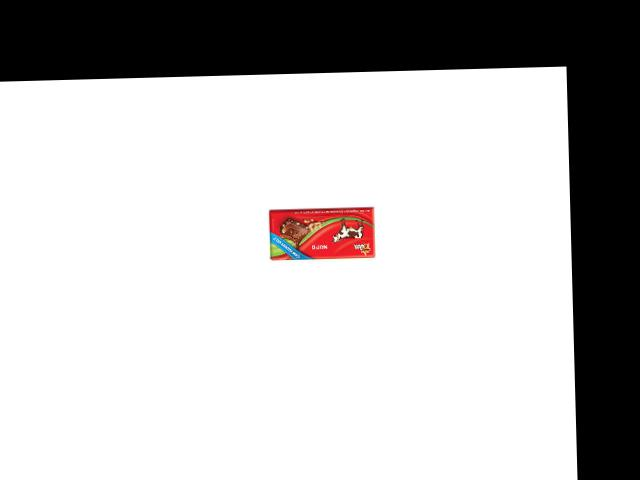chocolate: (269, 208, 380, 260)
